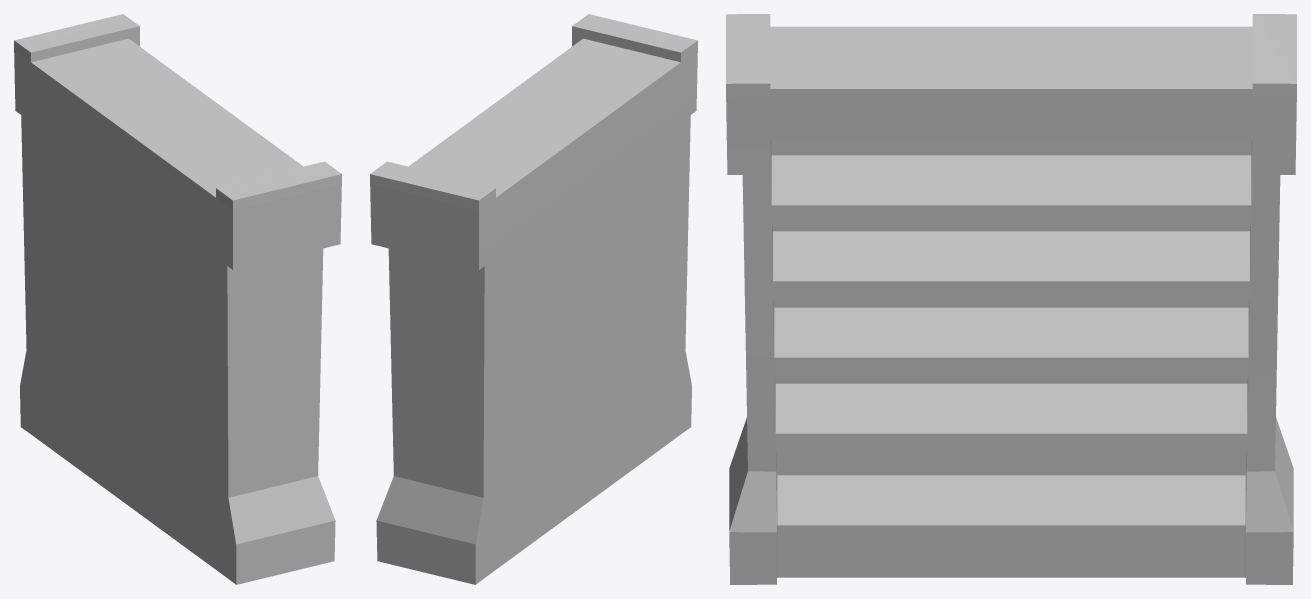
File: BookCaseLarge.glb
The picture shows the model from 3 angles, left to right: view 1: azimuth 30°, elevation 25°; view 2: azimuth 150°, elevation 25°; view 3: azimuth 270°, elevation 25°; orthographic projection. The views are drawn at different scales.
Visible parts, largest first — view 1: BookCaseLarge; view 2: BookCaseLarge; view 3: BookCaseLarge.
Boxes of the visible parts, left/top/right/bottom form: BookCaseLarge: left=14, top=14, right=341, bottom=584; BookCaseLarge: left=370, top=14, right=697, bottom=584; BookCaseLarge: left=726, top=14, right=1296, bottom=584.
Bounding box in the file's own units: 0.4519 × 1.53 × 1.57.
2 materials, 2 textured.
